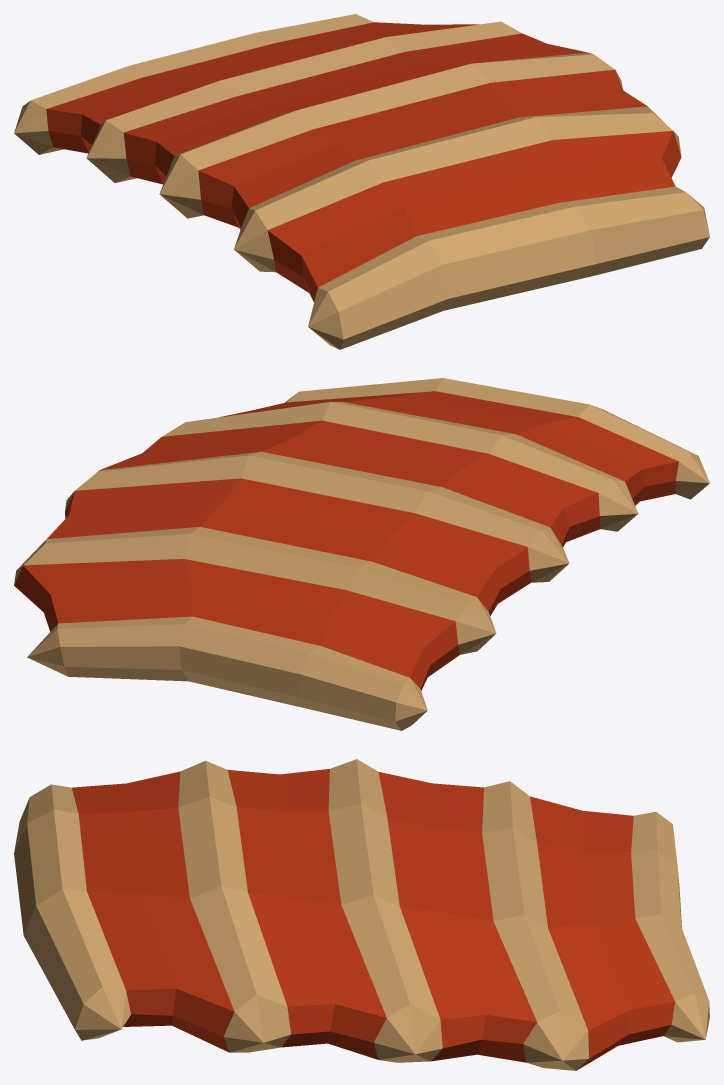
The model's file is Spareribs.fbx.
The picture shows the model from 3 angles, top to bottom: view 1: azimuth 30°, elevation 25°; view 2: azimuth 150°, elevation 25°; view 3: azimuth 270°, elevation 25°; orthographic projection. The views are drawn at different scales.
Visible parts, largest first — view 1: Spareribs; view 2: Spareribs; view 3: Spareribs.
Part boxes in pixels (left/top/right/bottom): Spareribs: left=14, top=14, right=709, bottom=349; Spareribs: left=14, top=378, right=709, bottom=730; Spareribs: left=14, top=759, right=709, bottom=1070.
Bounding box in the file's own units: 443 × 114 × 532.
